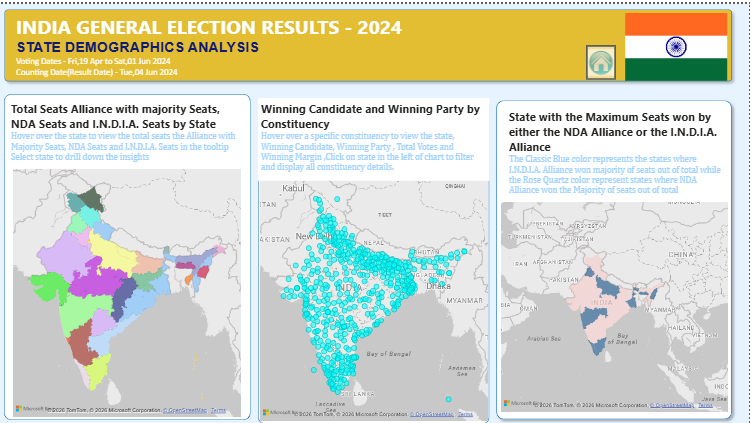

The dashboard page shown, as its layout file describes it:
{"tool":"powerbi","page":{"name":"State Demographics Analysis ","canvas":[1250,700],"ordinal":2},"visuals":[{"type":"shape","box":[0,0,1230.7,138],"z":0},{"type":"textbox","box":[22.8,10,690,180.7],"z":1000},{"type":"shape","box":[8.5,150.8,411.2,543.5],"z":2000,"group":"g1"},{"type":"shape","box":[431.1,156.5,385.6,543.5],"z":2000},{"type":"group","id":"g1","title":"Group 2","box":[8.5,150.8,411.2,543.8],"z":3000},{"type":"image","box":[1026.7,10,203.3,123.3],"z":4000},{"type":"shape","box":[820.2,150.9,410.1,549.5],"z":6000},{"type":"textbox","box":[14.2,156.5,399.8,113.8],"z":7000},{"type":"map","fields":{"Category":["states.State","statewise_results.Constituency"]},"box":[429.7,283.1,389.8,416.9],"z":8000},{"type":"textbox","box":[431.1,156.5,385.6,138],"z":9000},{"type":"textbox","box":[844.8,170.6,367.5,190.3],"z":10000},{"type":"filledMap","fields":{"Category":["states.State"],"Series":["states.Winner Alliance Legends"]},"box":[832.3,324.4,388.4,360],"z":11000},{"type":"actionButton","box":[978.3,68.3,50,58.3],"z":12001},{"type":"filledMap","fields":{"Category":["states.State"]},"box":[19.1,270.6,389.8,424],"z":64002,"group":"g1"}]}

Visuals, with their boxes in screenshot pixels (x1, y1, x2, y2), scaled from the page's 1250x700 canvas onto the 750x423 screenshot:
shape: 0, 0, 738, 83
textbox: 14, 6, 428, 115
shape: 5, 91, 252, 420
shape: 259, 95, 490, 422
"Group 2" group: 5, 91, 252, 420
image: 616, 6, 738, 81
shape: 492, 91, 738, 422
textbox: 9, 95, 248, 163
map - states.State x statewise_results.Constituency: 258, 171, 492, 422
textbox: 259, 95, 490, 178
textbox: 507, 103, 727, 218
filledMap - states.State x states.Winner Alliance Legends: 499, 196, 732, 414
actionButton: 587, 41, 617, 77
filledMap - states.State: 11, 164, 245, 420
